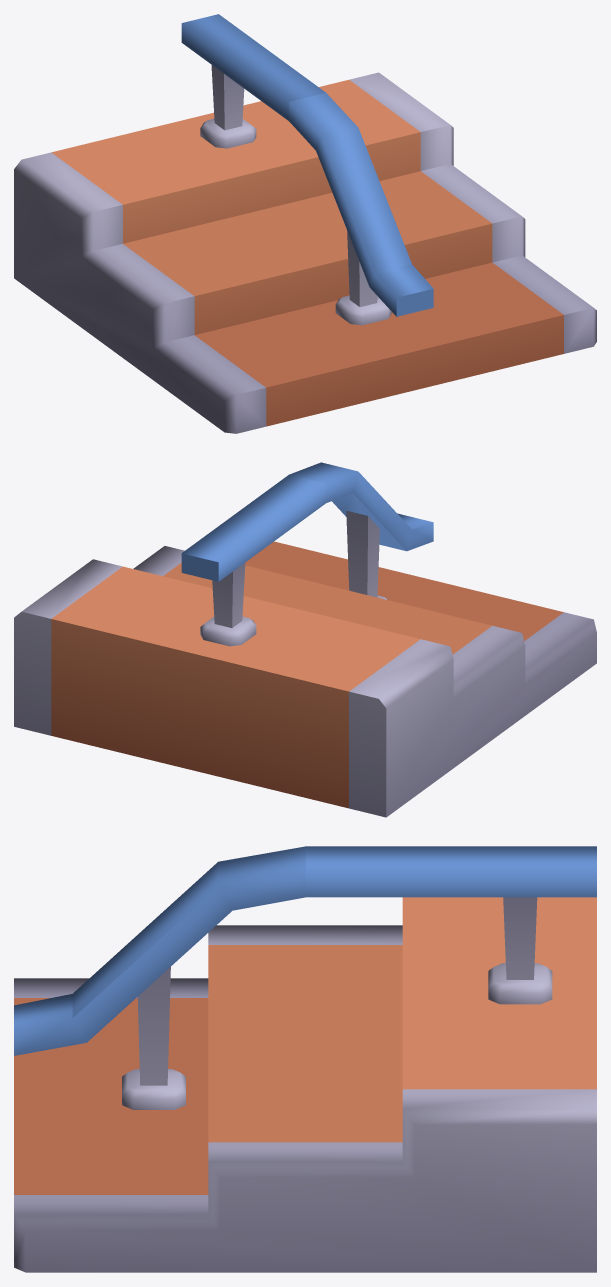
File: steps-rail.glb
The picture shows the model from 3 angles, top to bottom: view 1: azimuth 30°, elevation 25°; view 2: azimuth 150°, elevation 25°; view 3: azimuth 270°, elevation 25°; orthographic projection. The views are drawn at different scales.
Visible parts, largest first — view 1: steps-rail; view 2: steps-rail; view 3: steps-rail.
Part boxes in pixels (x1,y1,x2,y2): steps-rail: (14, 14, 596, 433); steps-rail: (14, 462, 596, 817); steps-rail: (14, 846, 596, 1272).
Size of the model in its own units: 1 by 0.55 by 1.
1 material, 1 textured.
